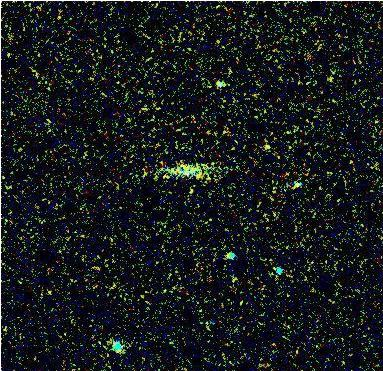star: (280, 170, 310, 200)
